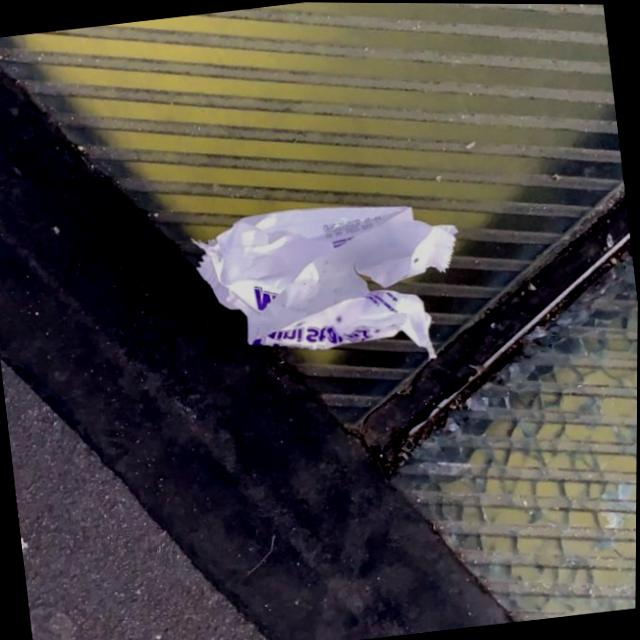Plastic: (185, 185, 477, 391)
